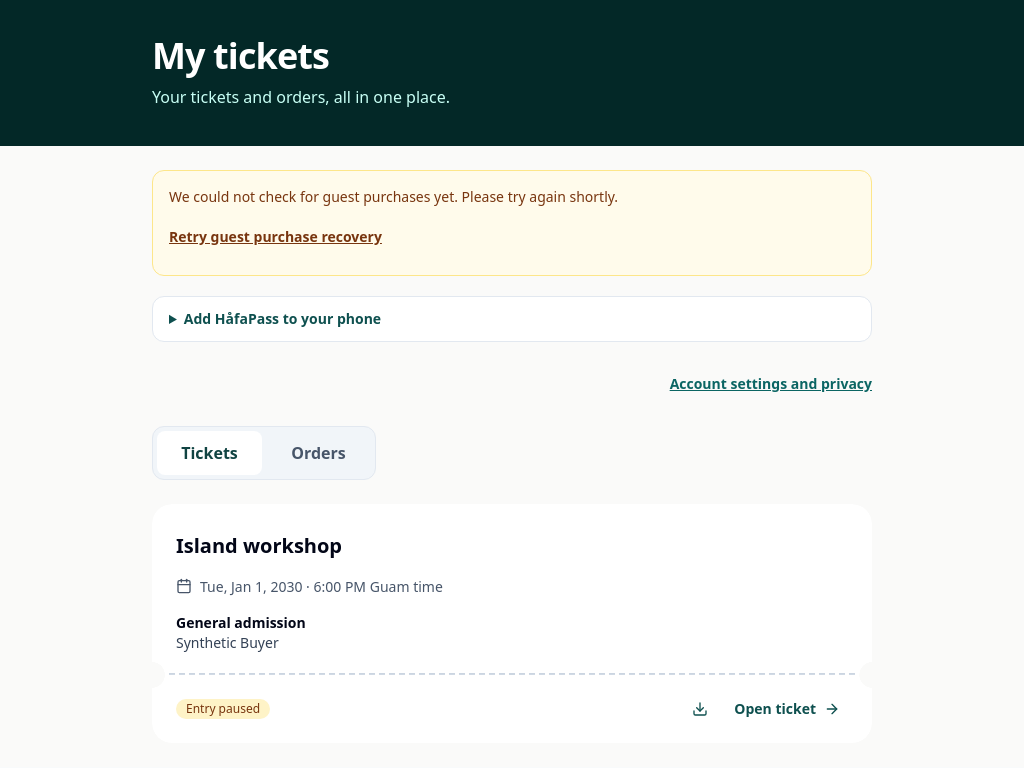
it: MyTicketsPage guest recovery › keeps known tickets visible during failed discovery and recovers on explicit retry
The image size is (1024, 768).
Expected: the link "Island workshop" is shown, [176,524,342,568]
Step 1. Click the button "Retry guest purchase recovery" → (275, 237), box [169,215,382,259]
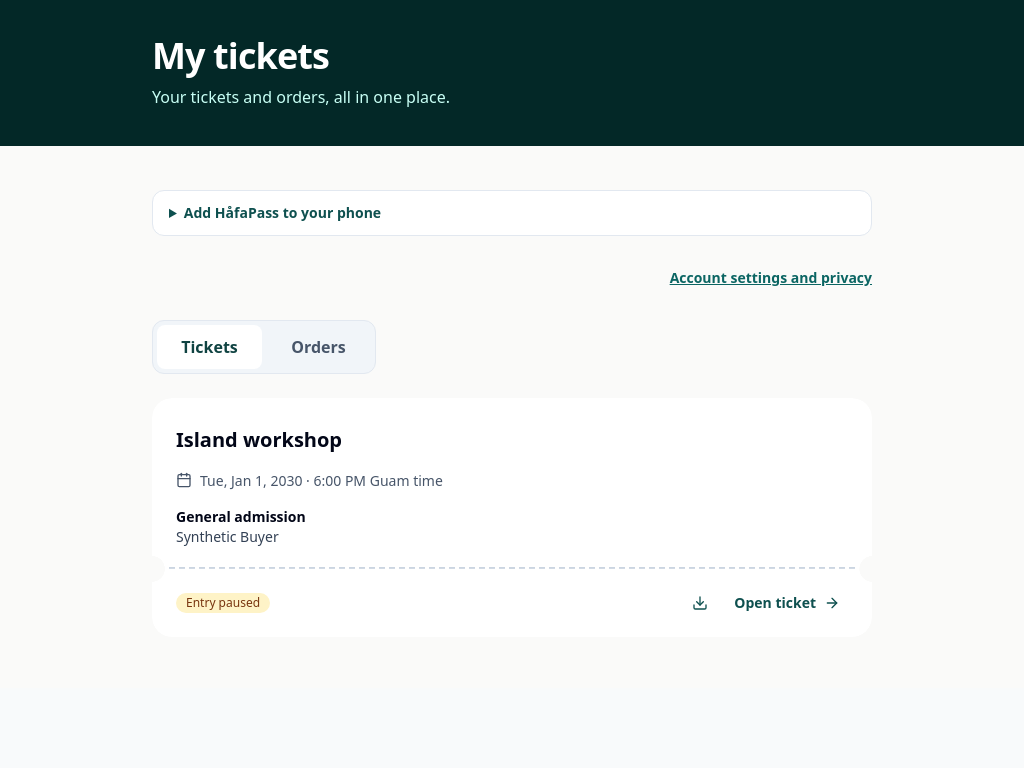
Expected: the link "Island workshop" is shown, [176,418,342,462]
Result: the button "Retry guest purchase recovery" is gone
